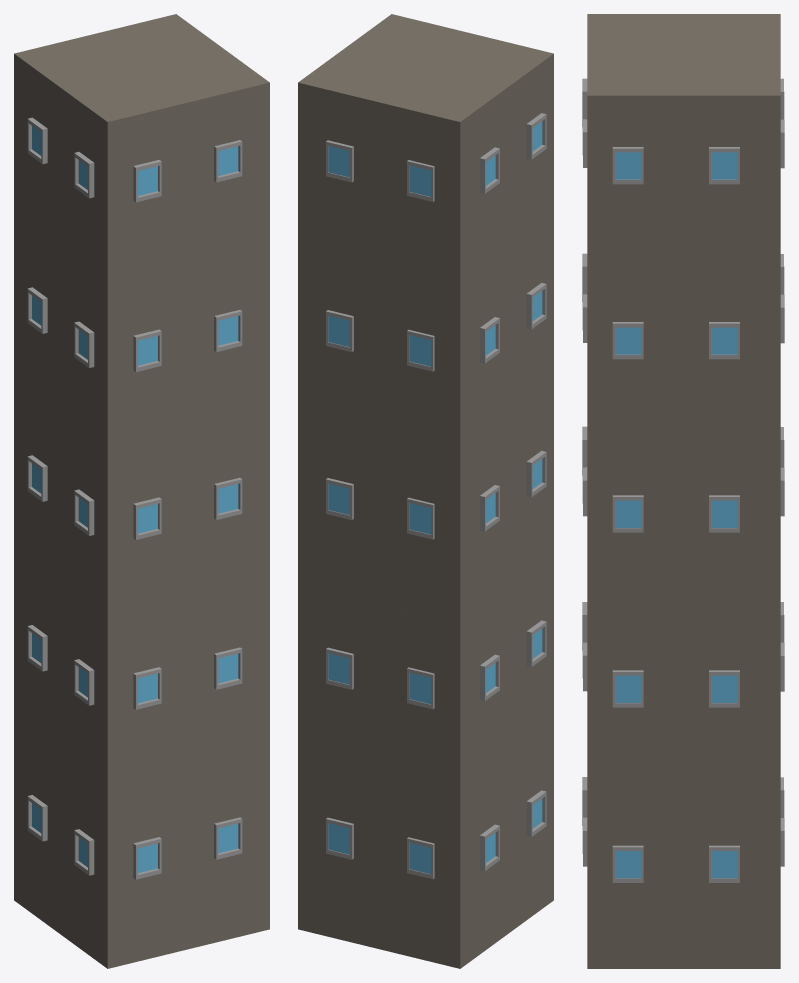
Rendered from WorkBuilding.fbx.
The picture shows the model from 3 angles, left to right: view 1: azimuth 30°, elevation 25°; view 2: azimuth 150°, elevation 25°; view 3: azimuth 270°, elevation 25°; orthographic projection. The views are drawn at different scales.
Visible parts, largest first — view 1: Cube.068, Cube, Cube.017, Cube.051, Cube.034, Cube.022, Cube.039, Cube.056, Cube.003, Cube.073, Cube.001, Cube.052 (+13 smaller); view 2: Cube.068, Cube, Cube.017, Cube.034, Cube.051, Cube.015, Cube.018, Cube.035, Cube.069, Cube.052, Cube.010, Cube.027 (+13 smaller); view 3: Cube.068, Cube.017, Cube.034, Cube, Cube.051, Cube.082, Cube.084, Cube.012, Cube.014, Cube.031, Cube.033, Cube.048 (+13 smaller).
Boxes of the visible parts, x1,y1,x2,y2 form: Cube.068: (14, 14, 269, 291); Cube: (14, 731, 269, 968); Cube.017: (14, 561, 269, 798); Cube.051: (14, 223, 269, 461); Cube.034: (14, 391, 269, 629); Cube.022: (214, 647, 242, 689); Cube.039: (214, 477, 242, 519); Cube.056: (214, 310, 242, 352); Cube.003: (214, 817, 242, 859); Cube.073: (214, 140, 242, 182); Cube.001: (27, 795, 47, 841); Cube.052: (74, 321, 94, 367); Cube.068: (298, 14, 553, 291); Cube: (298, 731, 553, 968); Cube.017: (298, 561, 553, 799); Cube.034: (298, 393, 553, 629); Cube.051: (298, 223, 553, 459); Cube.015: (526, 790, 546, 836); Cube.018: (526, 620, 546, 666); Cube.035: (526, 450, 546, 497); Cube.069: (526, 113, 546, 159); Cube.052: (526, 283, 546, 329); Cube.010: (409, 842, 430, 874); Cube.027: (328, 653, 349, 684); Cube.068: (587, 14, 780, 270); Cube.017: (587, 619, 780, 793); Cube.034: (587, 444, 780, 618); Cube: (587, 794, 780, 968); Cube.051: (587, 270, 780, 445); Cube.082: (615, 152, 641, 179); Cube.084: (711, 152, 737, 179); Cube.012: (615, 851, 641, 878); Cube.014: (711, 851, 737, 878); Cube.031: (615, 675, 641, 702); Cube.033: (711, 675, 737, 702); Cube.048: (615, 500, 641, 527).
Size of the model in its own units: 211 by 997 by 210.
